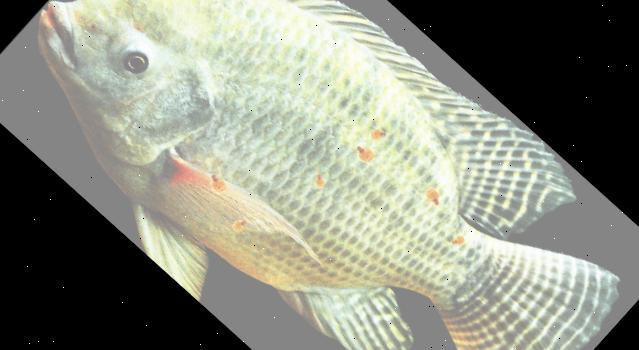Parasitic Disease: (37, 0, 617, 350)
